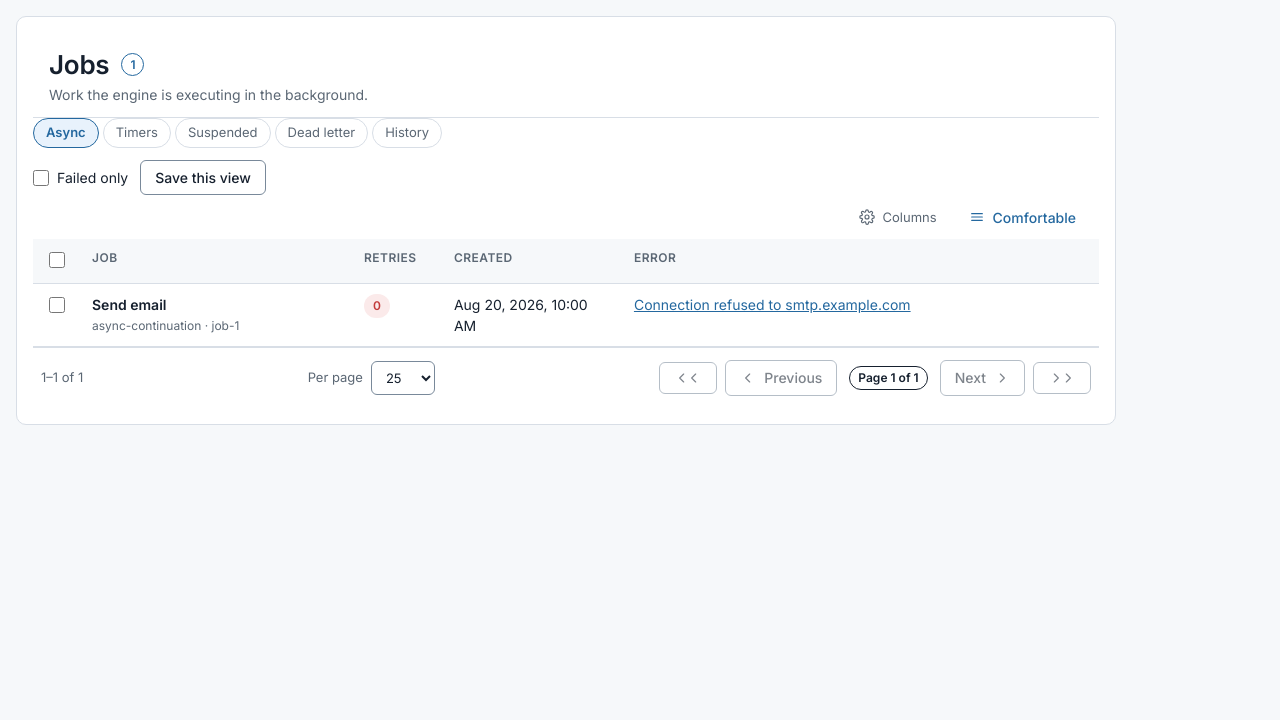
Test case: Jobs › opens the stack trace for a failing job
The width and height of the screenshot is (1280, 720).
Check: the text "Send email" is shown, box [92,296,166,313]
Click the button "Connection refused to smtp.example.com". click: (772, 305)
box: [634,294,911,315]
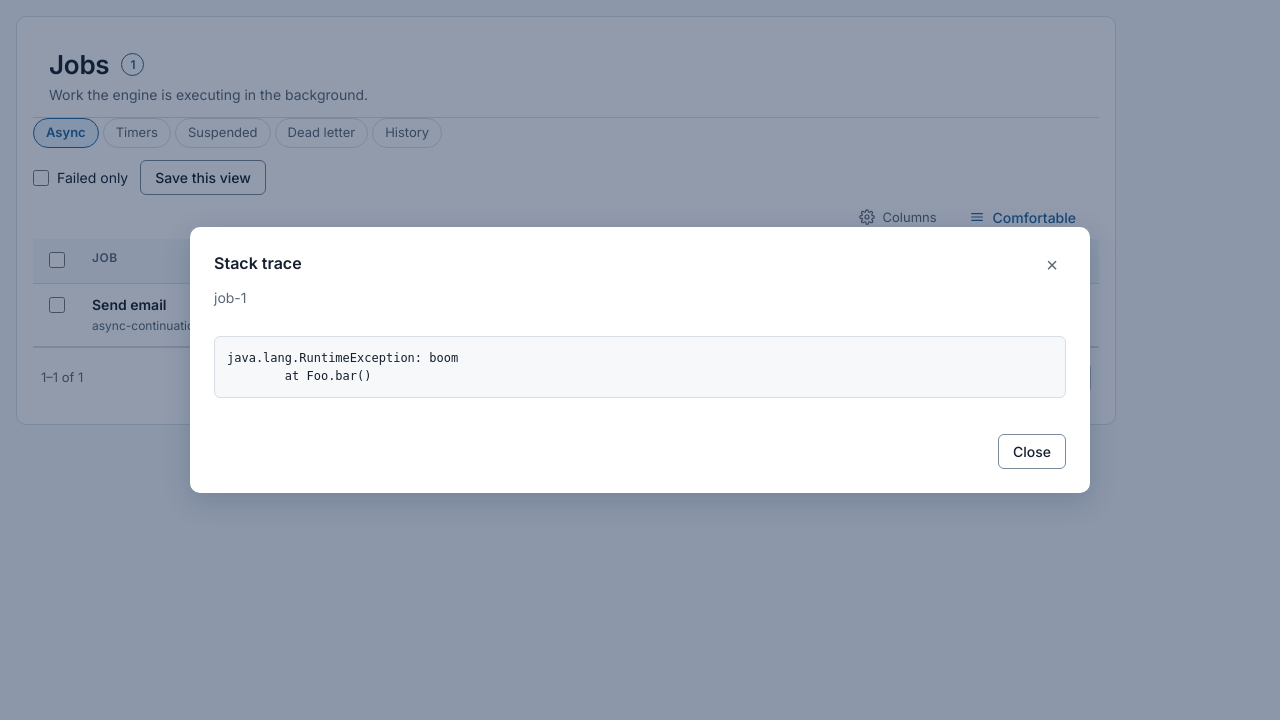
Check: the text "java.lang.RuntimeException: boom at Foo.bar()" is shown, box [214,336,1066,398]
